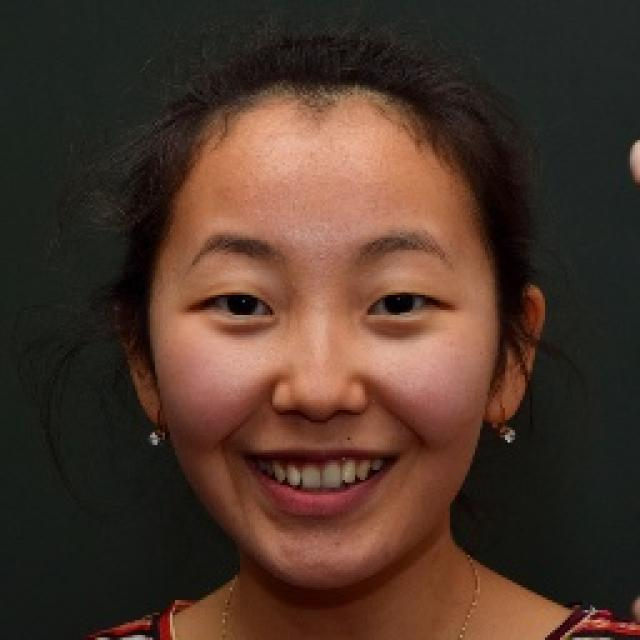earlobe: (484, 387, 517, 430), (142, 393, 168, 428)
eye: (198, 284, 276, 328), (361, 285, 442, 322)
nose: (272, 399, 370, 441)
wholeear: (486, 276, 547, 430), (113, 296, 168, 429)
